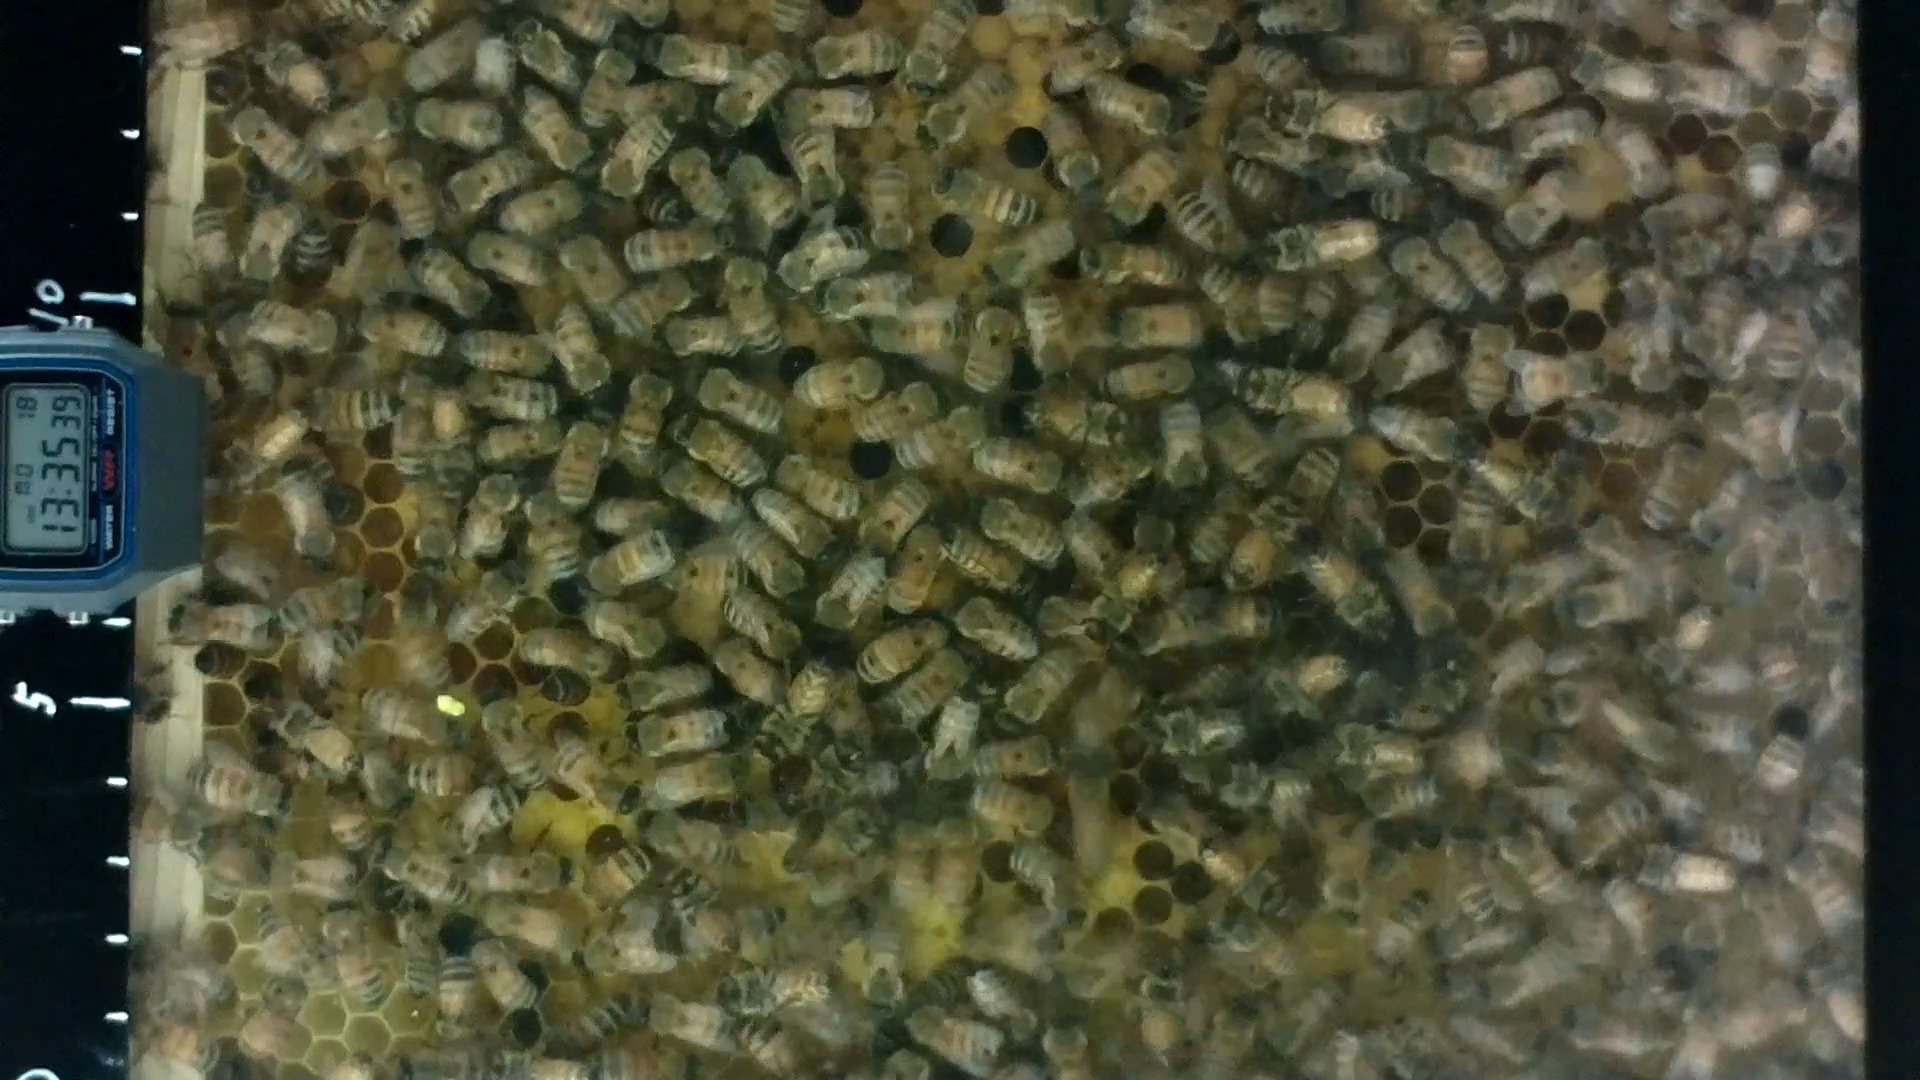hati: (222, 103, 318, 190), (637, 746, 753, 815), (537, 307, 615, 409), (357, 684, 468, 754), (542, 738, 640, 818), (272, 465, 342, 571), (642, 811, 738, 887), (899, 1007, 1004, 1077), (930, 167, 1035, 236), (400, 247, 488, 327), (235, 301, 356, 359), (608, 363, 669, 477), (477, 690, 545, 793), (723, 156, 808, 236), (564, 538, 680, 596), (185, 754, 295, 815), (506, 620, 608, 686), (442, 149, 542, 214), (646, 993, 735, 1065), (400, 94, 514, 149), (1367, 407, 1473, 467), (298, 377, 404, 436), (977, 498, 1063, 571), (373, 154, 440, 247), (957, 294, 1018, 394), (861, 158, 919, 262), (779, 455, 862, 527), (971, 440, 1065, 504), (903, 8, 969, 98), (1068, 239, 1182, 289), (372, 843, 463, 905), (468, 940, 541, 1017), (615, 707, 733, 753), (525, 487, 580, 584), (731, 249, 777, 365), (244, 199, 309, 281), (641, 32, 749, 80), (471, 844, 578, 893), (322, 909, 380, 997), (1022, 284, 1076, 377), (1081, 76, 1168, 135), (580, 40, 636, 131), (857, 384, 942, 443), (625, 222, 723, 272), (961, 782, 1054, 835), (781, 347, 866, 404), (1513, 351, 1607, 400), (615, 665, 713, 711), (771, 86, 876, 127), (800, 30, 891, 76), (1469, 316, 1509, 419), (822, 273, 909, 316)
